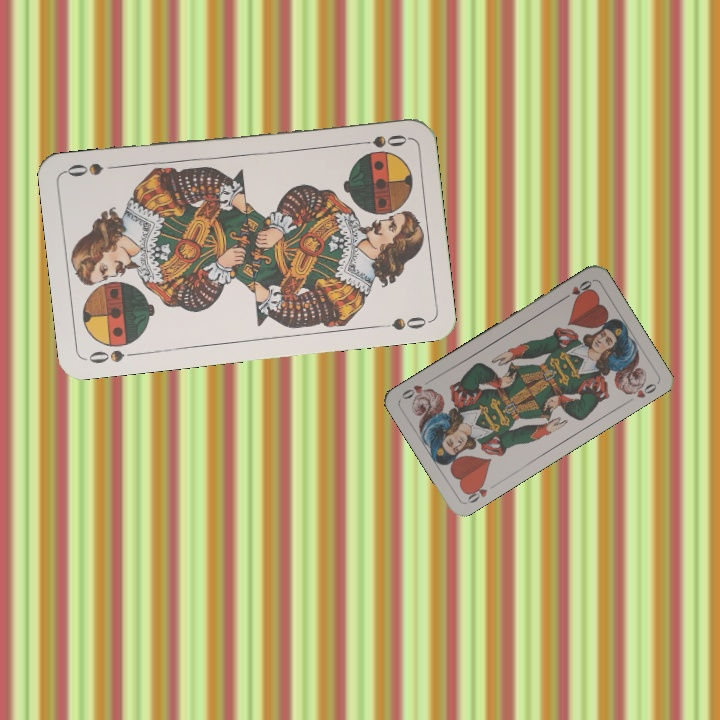HO: (461, 477, 499, 506), (558, 276, 594, 303)
SO: (351, 130, 410, 151), (84, 345, 142, 366)
